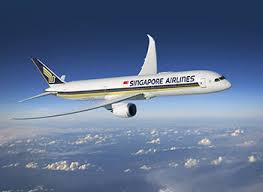maybay_dansu: (20, 35, 230, 123)
